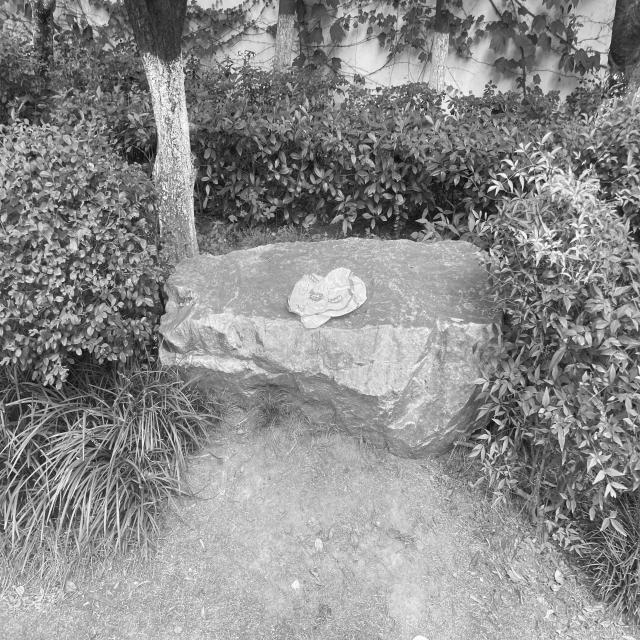Stone: (159, 238, 495, 456)
